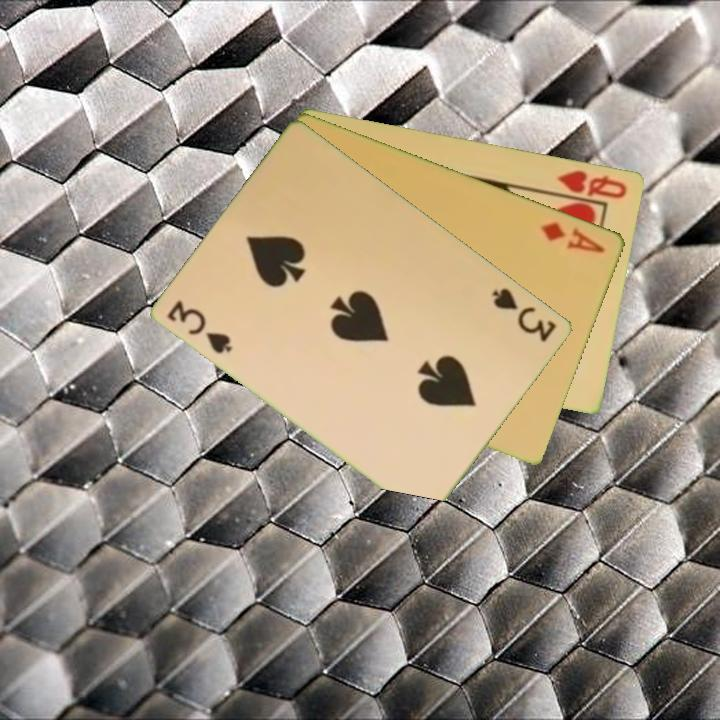3s: (164, 296, 236, 357), (489, 284, 560, 345)
Ad: (538, 218, 608, 256)
Qh: (553, 166, 631, 201)
